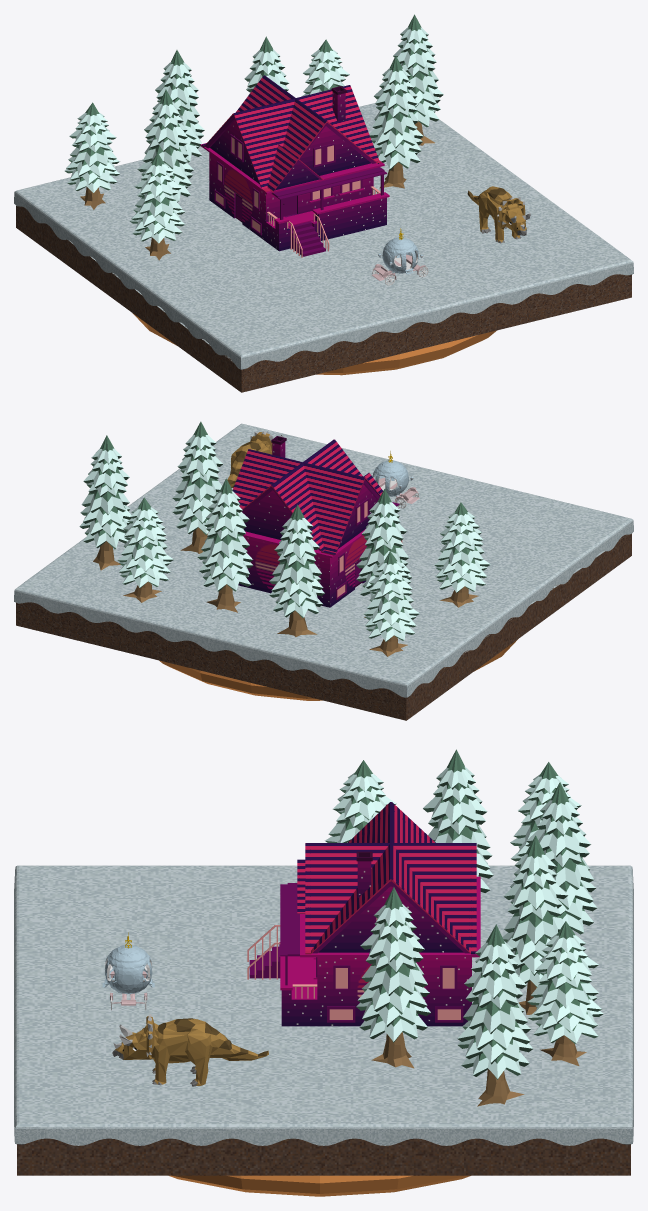
3 renders of one model, top to bottom at view 1: azimuth 30°, elevation 25°; view 2: azimuth 150°, elevation 25°; view 3: azimuth 270°, elevation 25°, orthographic. The views are drawn at different scales.
Visible parts, largest first — view 1: Cube.003, Cube.156, UNDERGROUND_PIZZA, ANIMAL_Triceratops, VEHICLES_FANTASY_CARRIAGE; view 2: Cube.003, Cube.156, UNDERGROUND_PIZZA, VEHICLES_FANTASY_CARRIAGE, ANIMAL_Triceratops; view 3: Cube.003, Cube.156, ANIMAL_Triceratops, UNDERGROUND_PIZZA, VEHICLES_FANTASY_CARRIAGE.
Part boxes in pixels (x1=…): Cube.003: x1=14, y1=14, x2=633, y2=392; Cube.156: x1=200, y1=75, x2=389, y2=257; UNDERGROUND_PIZZA: x1=132, y1=313, x2=496, y2=375; ANIMAL_Triceratops: x1=467, y1=186, x2=530, y2=243; VEHICLES_FANTASY_CARRIAGE: x1=371, y1=228, x2=428, y2=285; Cube.003: x1=14, y1=421, x2=633, y2=720; Cube.156: x1=232, y1=436, x2=402, y2=607; UNDERGROUND_PIZZA: x1=159, y1=639, x2=517, y2=700; VEHICLES_FANTASY_CARRIAGE: x1=372, y1=451, x2=419, y2=508; ANIMAL_Triceratops: x1=227, y1=431, x2=282, y2=487; Cube.003: x1=14, y1=749, x2=633, y2=1175; Cube.156: x1=247, y1=802, x2=480, y2=1026; ANIMAL_Triceratops: x1=112, y1=1014, x2=268, y2=1086; UNDERGROUND_PIZZA: x1=169, y1=1175, x2=470, y2=1196; VEHICLES_FANTASY_CARRIAGE: x1=102, y1=932, x2=154, y2=1010.
Bounding box in the file's own units: 4040 × 1904 × 4040.
Materials: 30 (5 with a texture image).
